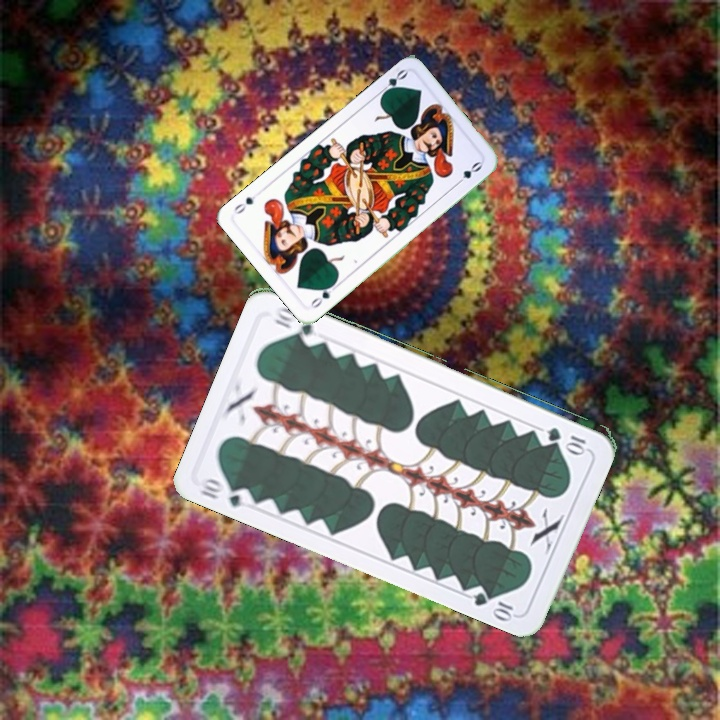G10: (197, 474, 256, 511), (543, 423, 590, 454)
GO: (374, 65, 410, 99), (307, 278, 341, 311)
